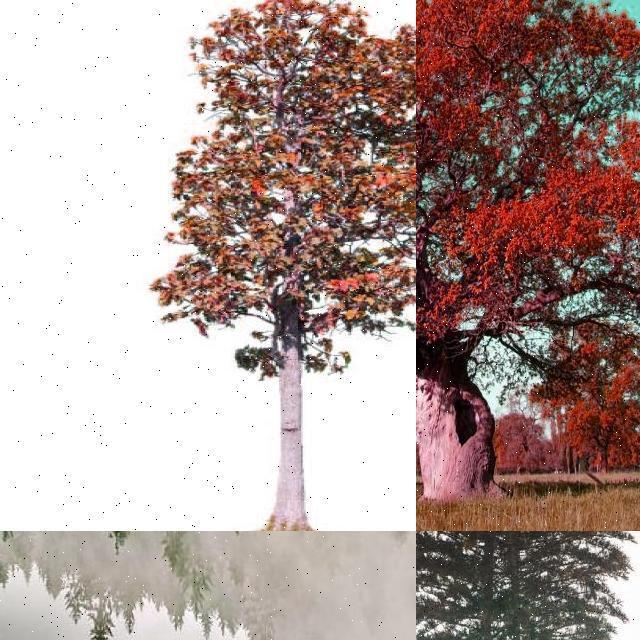tree: (156, 1, 416, 532), (416, 0, 640, 510), (416, 531, 640, 640), (230, 530, 298, 610), (0, 531, 92, 589), (90, 532, 162, 604), (198, 530, 262, 602), (88, 532, 156, 592), (379, 531, 416, 640), (88, 530, 140, 594), (176, 561, 216, 621), (206, 531, 252, 579), (88, 583, 114, 640), (416, 531, 448, 575)
